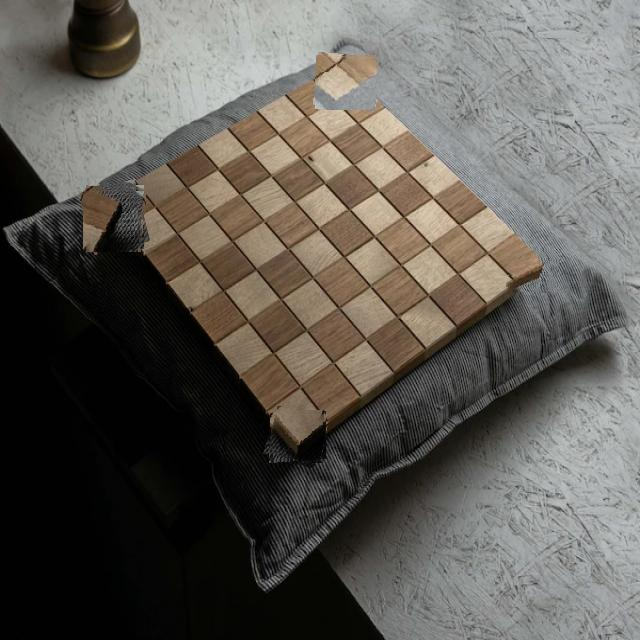chess-table-corners: (83, 182, 147, 252), (315, 54, 377, 110), (266, 410, 326, 466), (508, 248, 560, 292)
